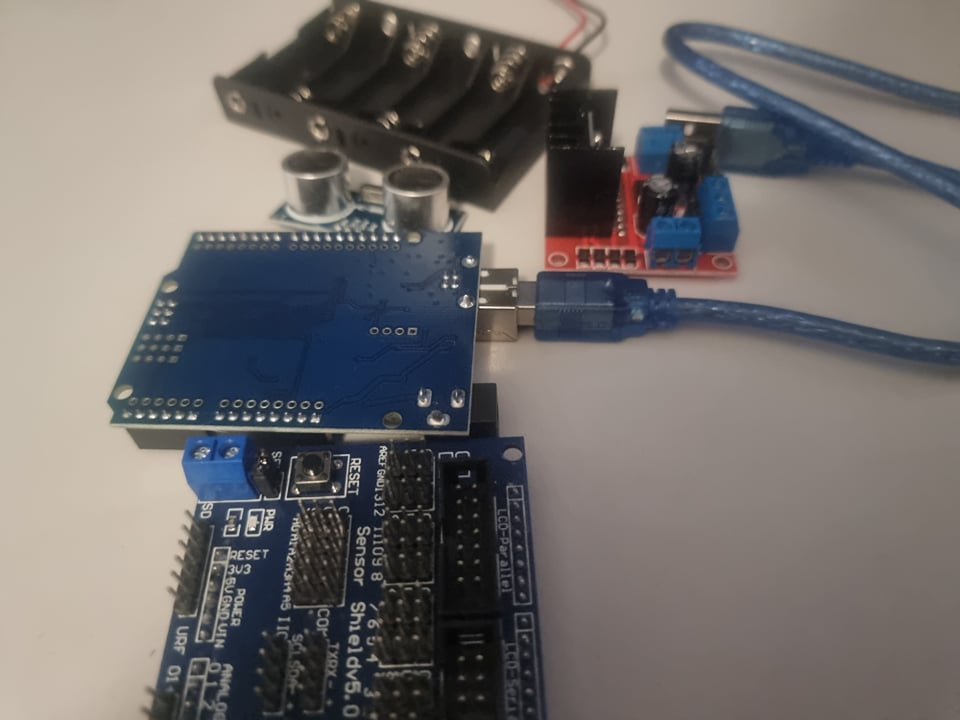5V EXPANSION: (148, 439, 547, 716)
BATTERY BOX: (213, 3, 588, 215)
MOTOR: (541, 85, 737, 279)
SENSOR: (270, 148, 466, 233)
UNO R3: (104, 222, 520, 438)
